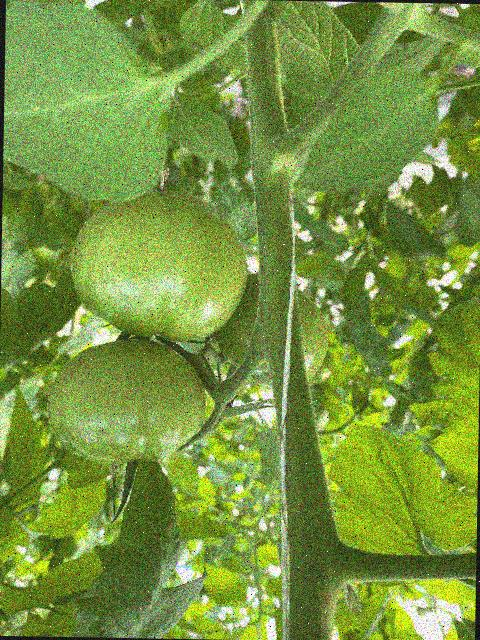b_green: (69, 189, 249, 343), (45, 337, 208, 466), (211, 271, 330, 392)
